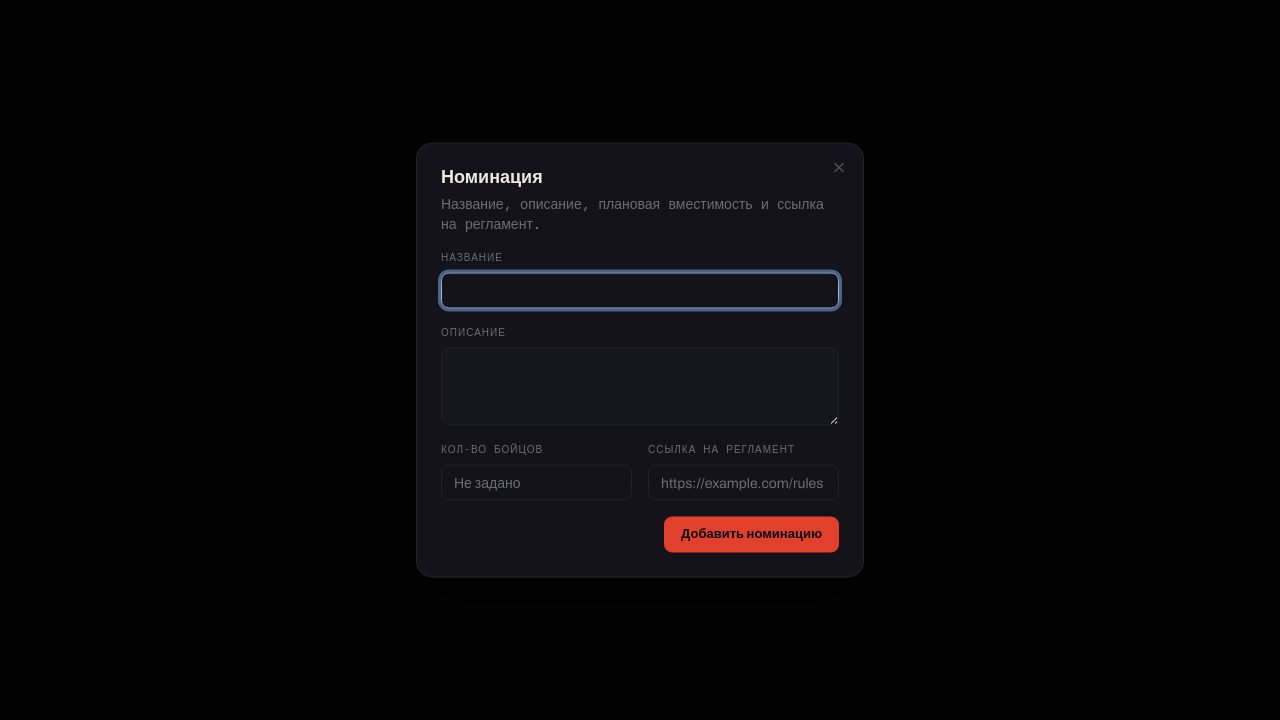
CreateNominationDialog › shows an inline error for an empty title and does not submit or close (AC-7)
Click the button "Добавить номинацию".
click(752, 534)  # box [664, 516, 839, 552]
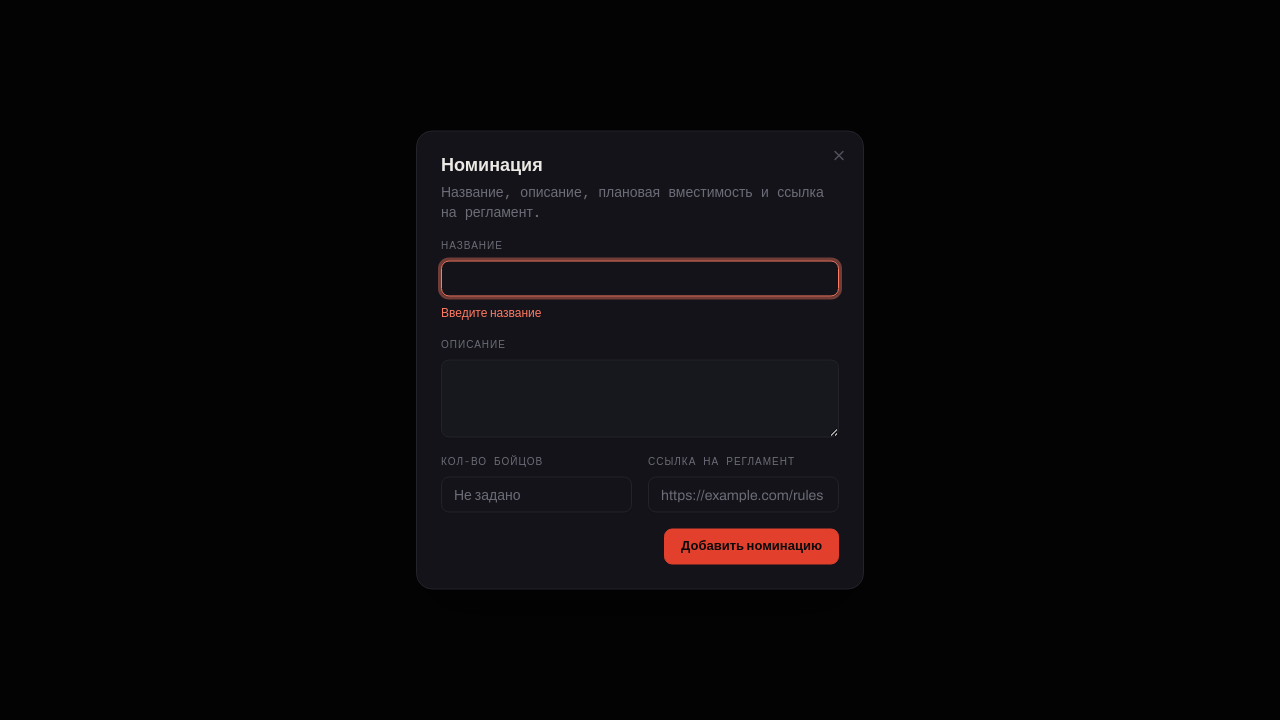
Expected: the text "Введите название" is shown, [441, 306, 542, 320]
